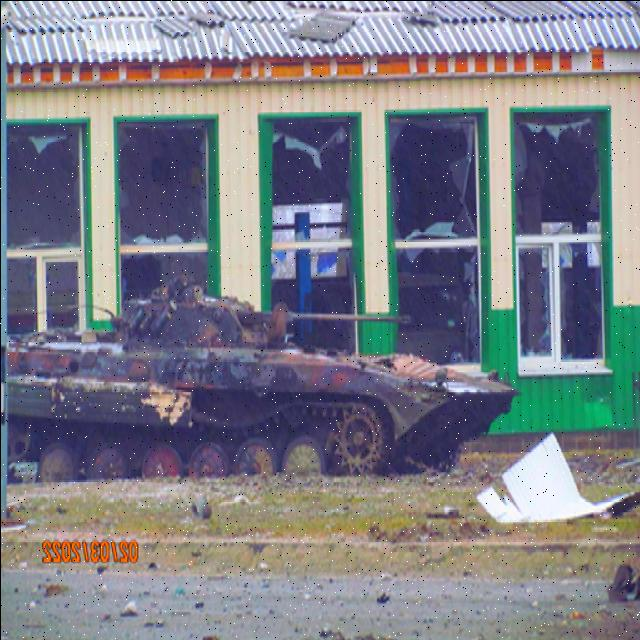APC-IFV: (2, 251, 528, 489)
